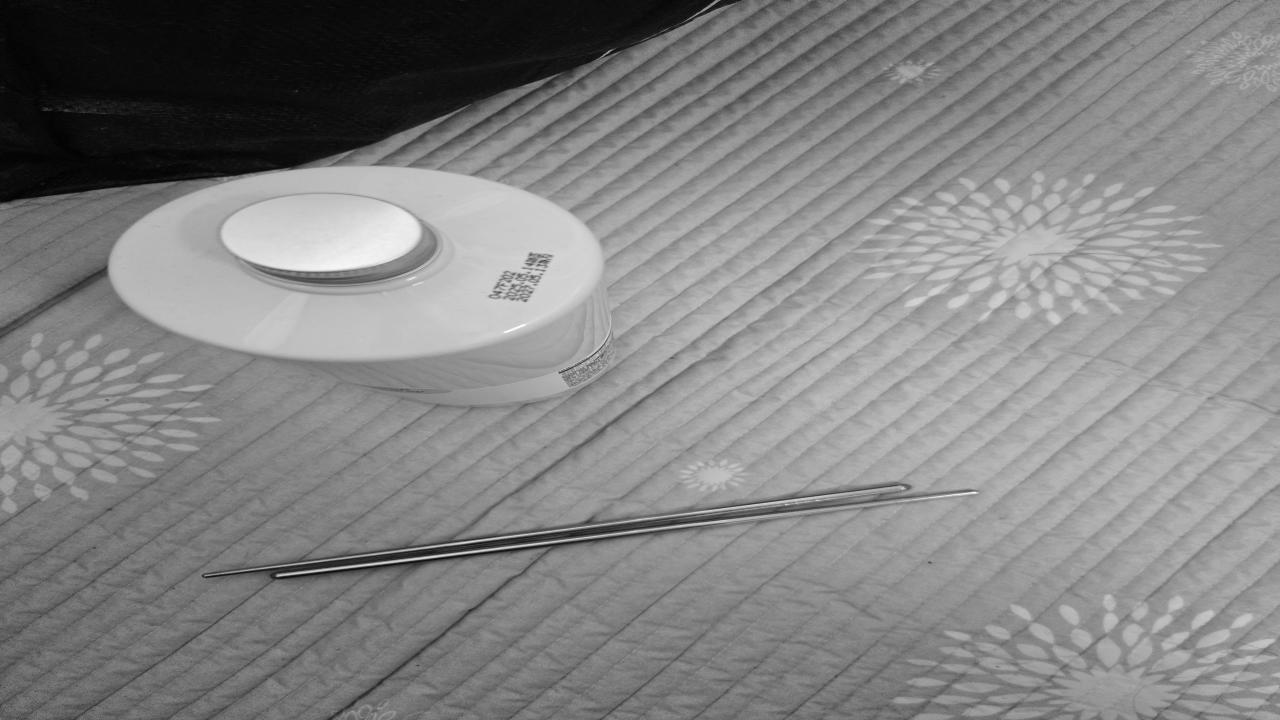chopstick: (197, 480, 984, 587)
